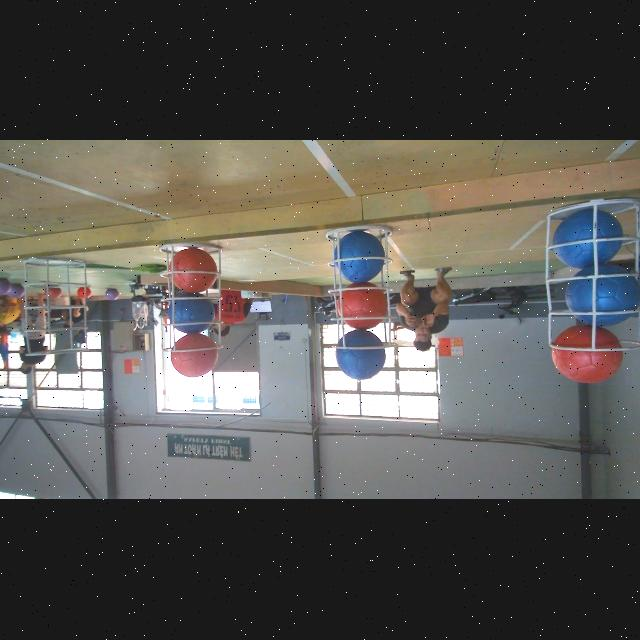B: (566, 266, 640, 326), (554, 208, 622, 270), (334, 231, 386, 283), (336, 331, 384, 381), (168, 294, 214, 334)
R: (552, 327, 624, 383), (338, 282, 387, 330), (171, 334, 219, 378), (171, 248, 217, 292)
